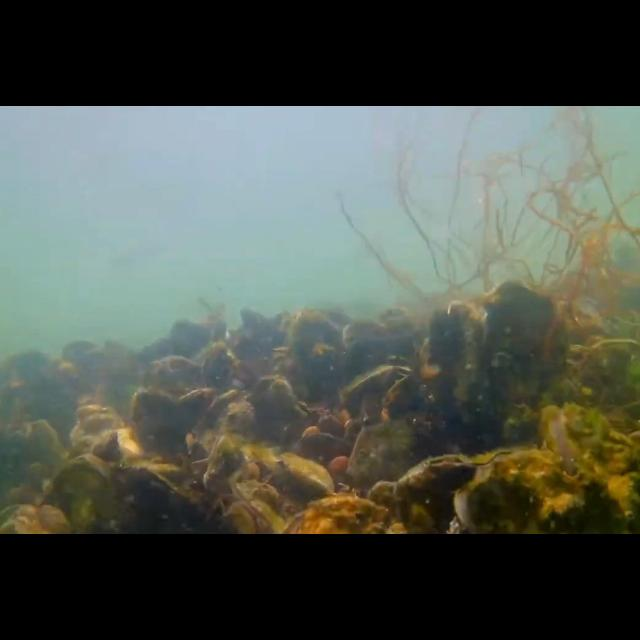Oyster-Closed: (454, 449, 626, 535), (366, 449, 514, 535), (482, 276, 568, 406), (37, 454, 129, 534), (428, 299, 488, 406), (122, 466, 208, 534), (128, 386, 192, 466), (348, 420, 417, 488), (21, 419, 64, 493), (282, 452, 336, 496), (96, 428, 120, 464)
Oyster-Open: (538, 404, 640, 532), (338, 364, 419, 421), (230, 481, 286, 535), (202, 430, 245, 494)
